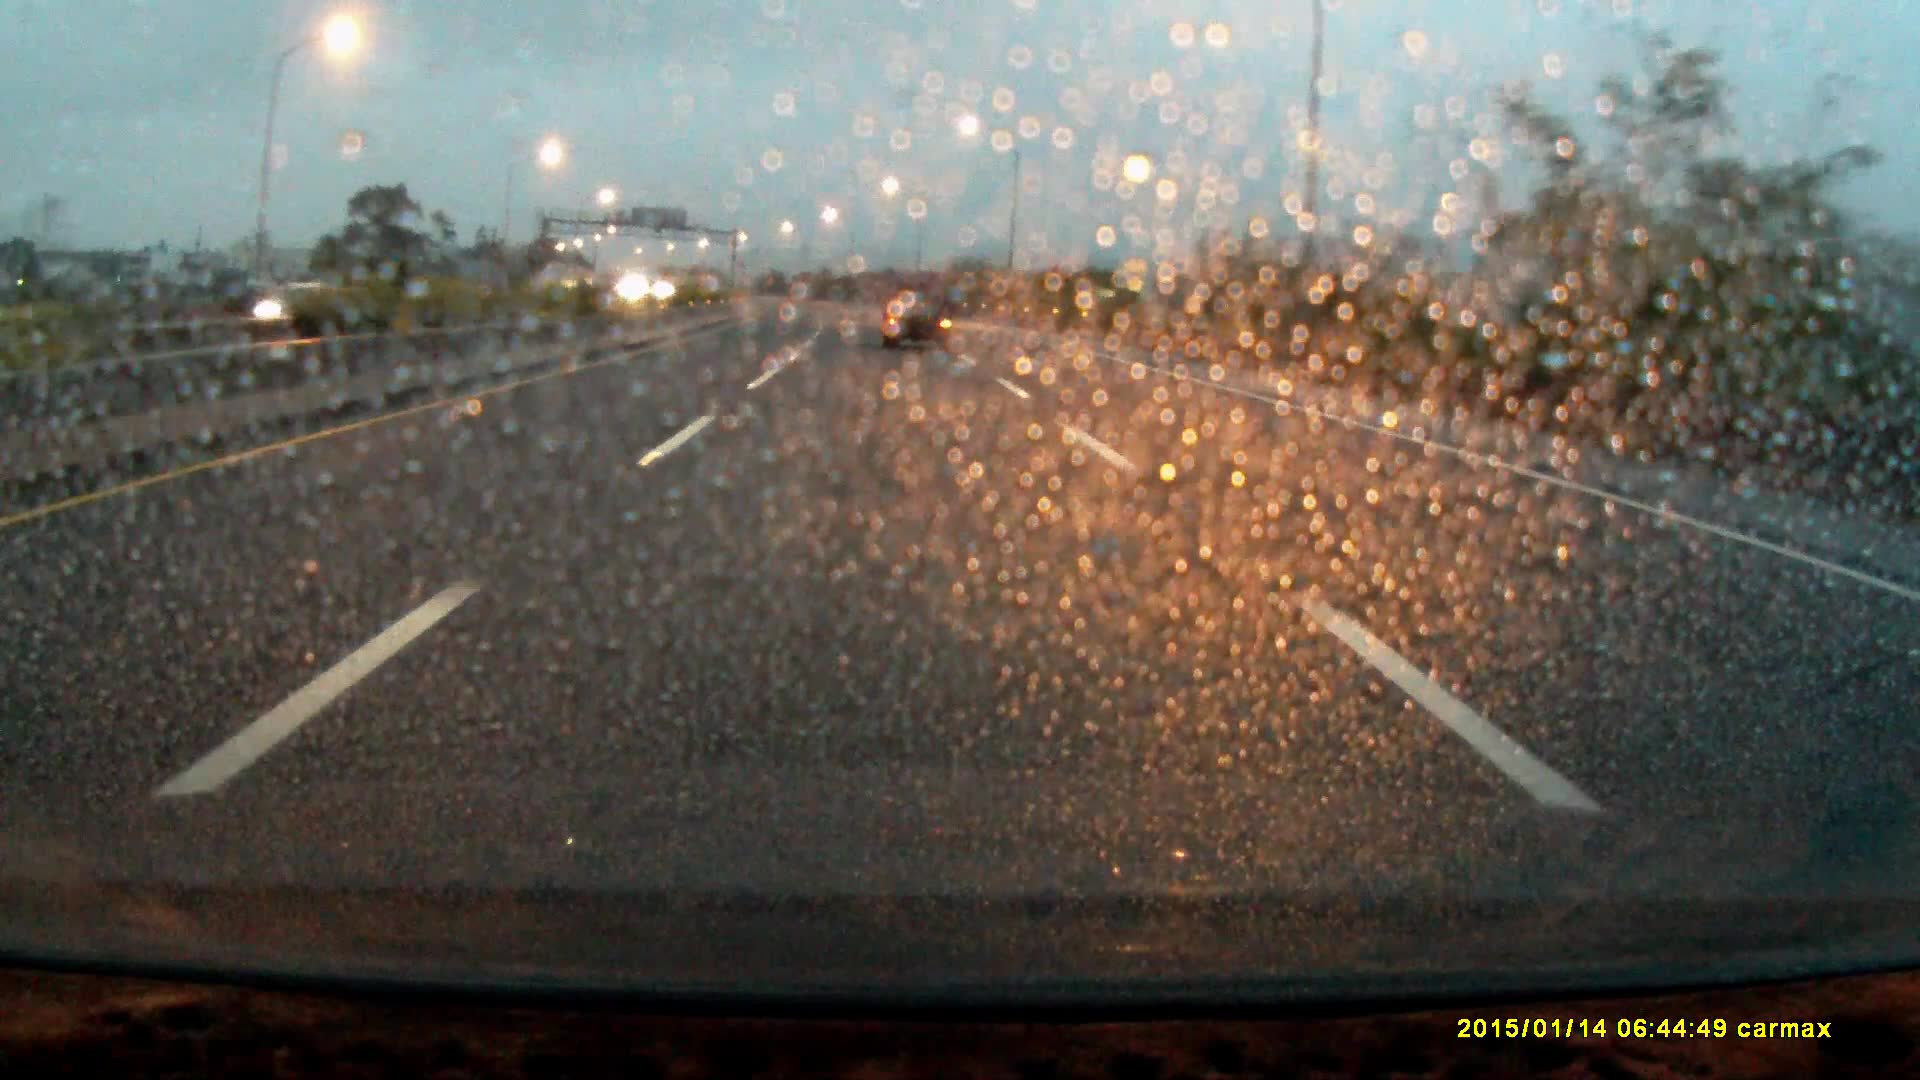vehicle: (882, 269, 952, 353)
